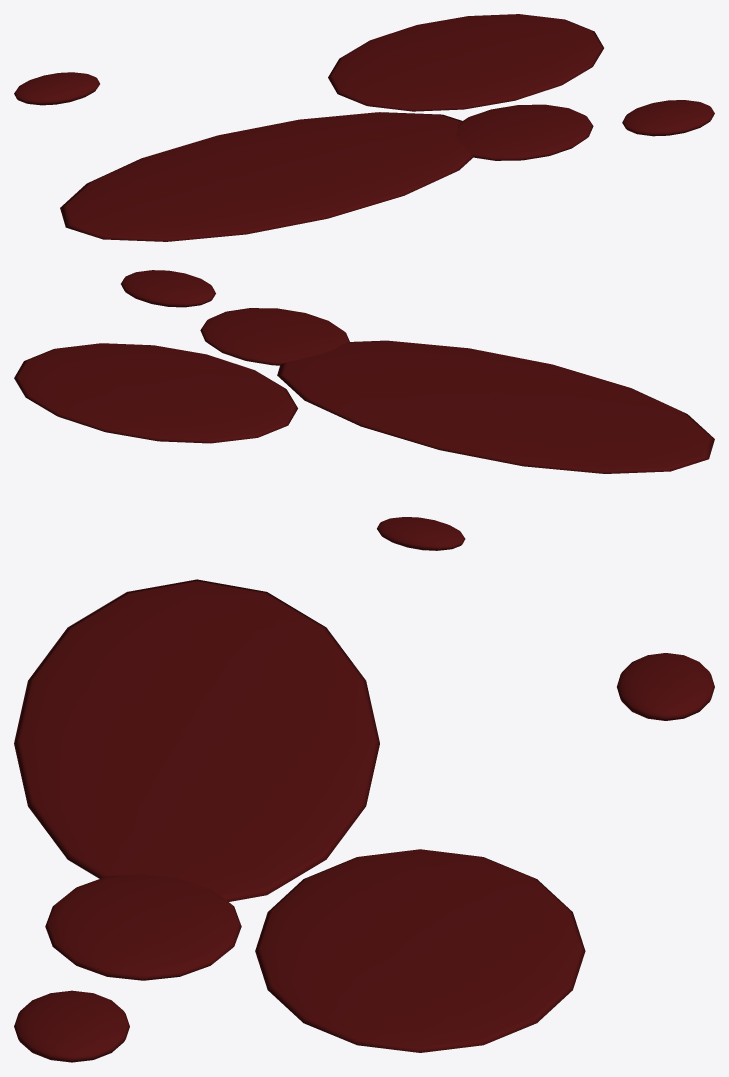
File: mia-blood_smear.glb
3 renders of one model, top to bottom at view 1: azimuth 30°, elevation 25°; view 2: azimuth 150°, elevation 25°; view 3: azimuth 270°, elevation 25°, orthographic. The views are drawn at different scales.
Visible parts, largest first — view 1: Body_blood-gloss; view 2: Body_blood-gloss; view 3: Body_blood-gloss.
Part boxes in pixels (<box>): Body_blood-gloss: <box>14,14,714,241</box>; Body_blood-gloss: <box>14,270,714,550</box>; Body_blood-gloss: <box>14,579,714,1062</box>.
Size of the model in its own units: 0.255 by 0.006 by 0.157.
